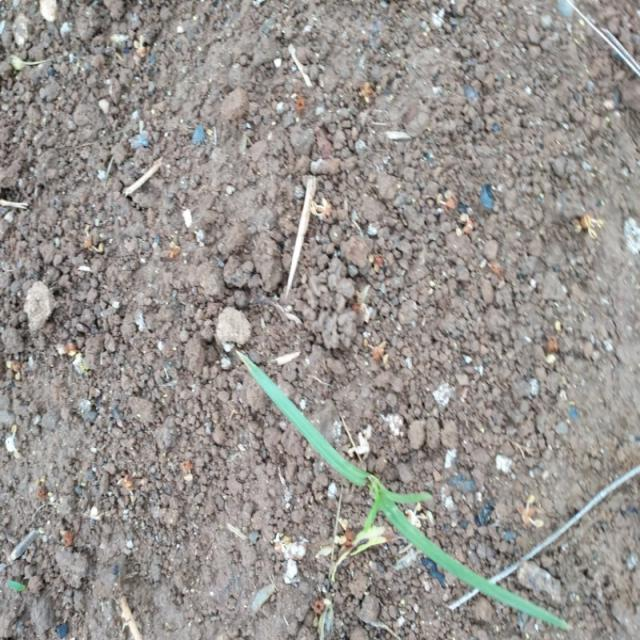sedge: (242, 336, 514, 614)
